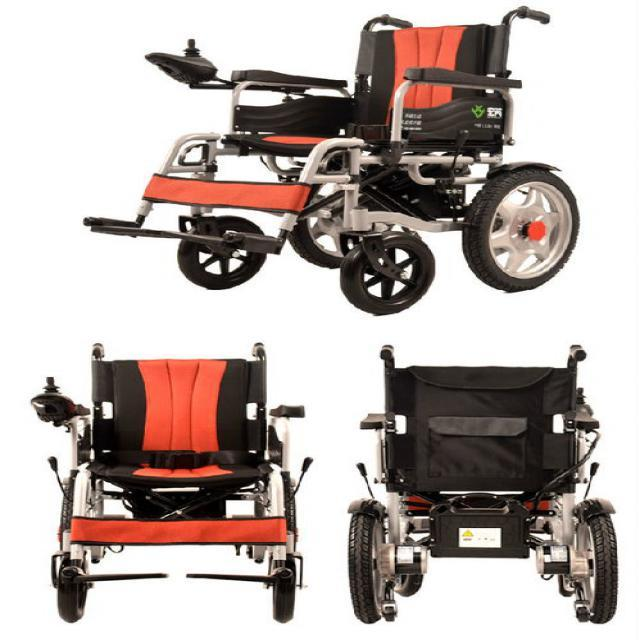wheelchair: (81, 2, 584, 318), (19, 339, 321, 636), (340, 342, 639, 632)
